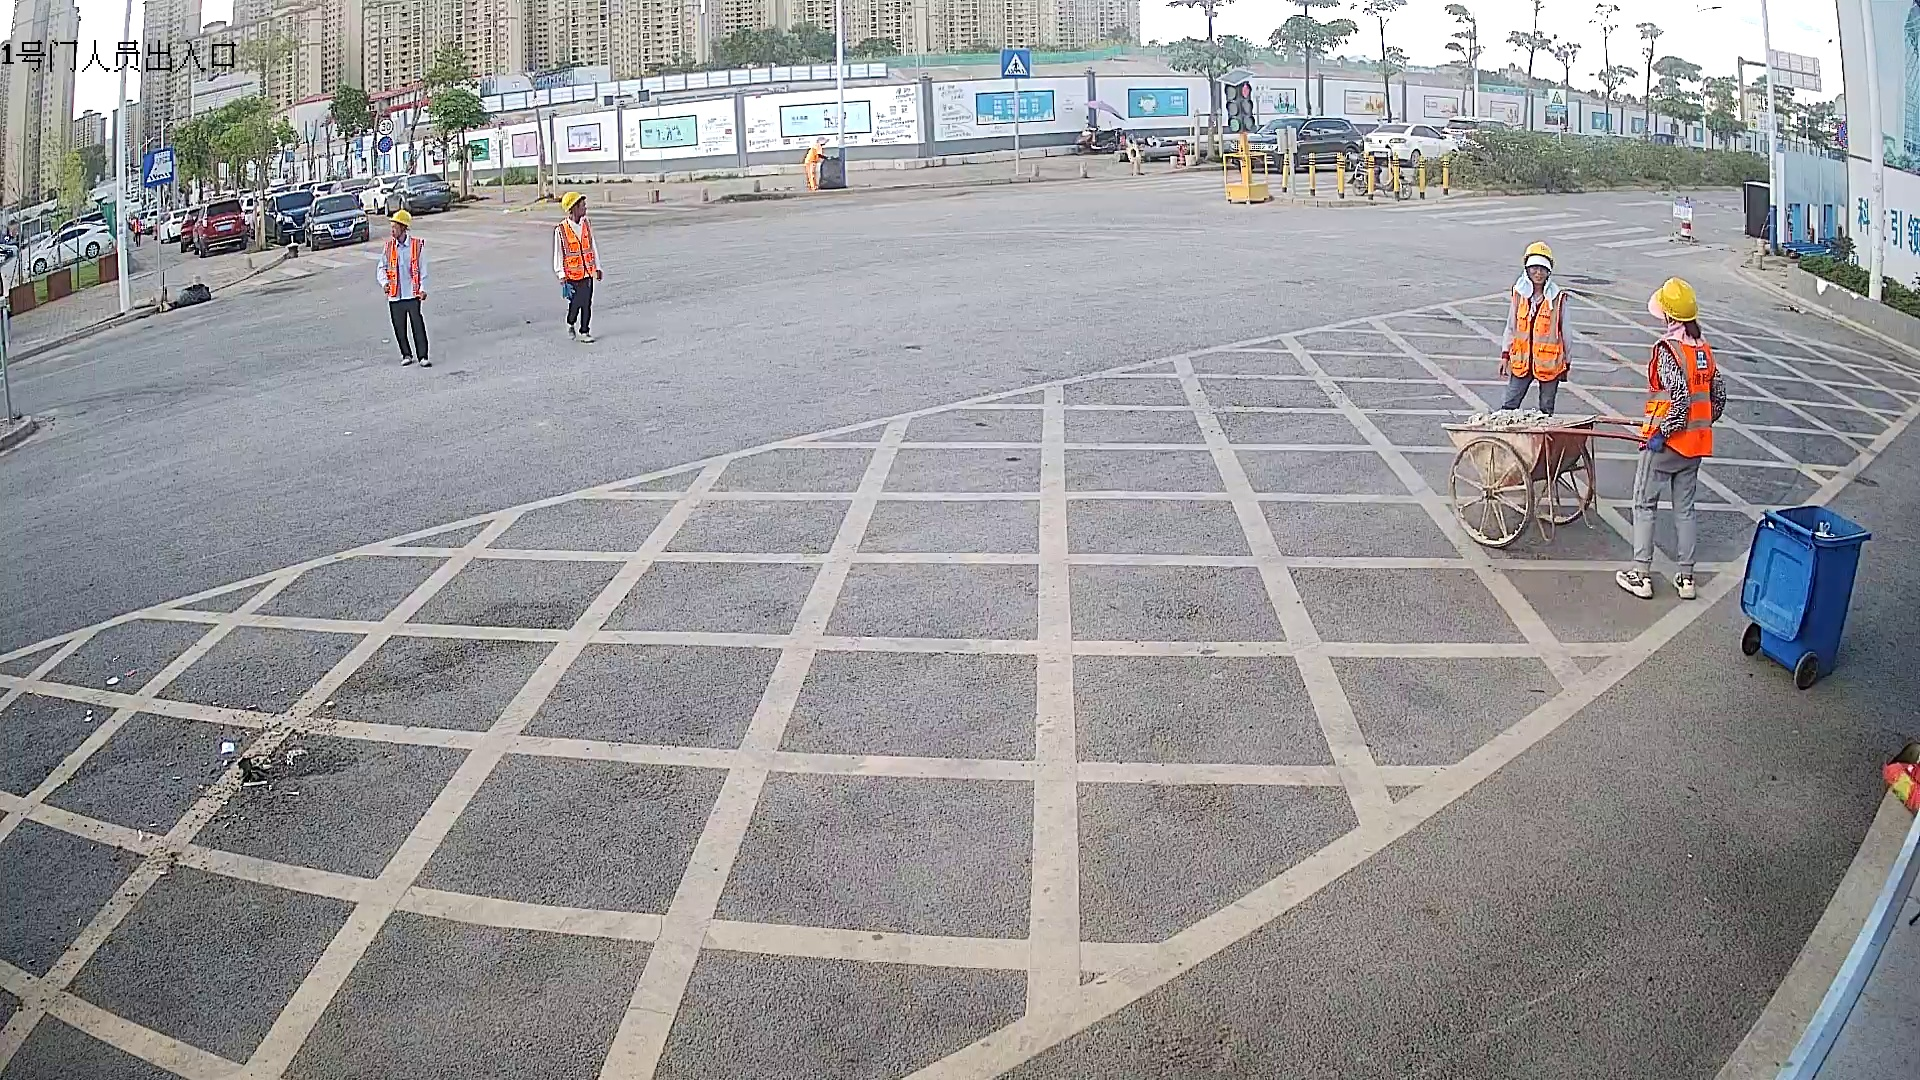person: (1613, 270, 1728, 603), (1497, 232, 1579, 414), (375, 207, 435, 370), (551, 189, 606, 345)
reflective_vest: (1639, 335, 1717, 460), (1505, 283, 1571, 382), (555, 217, 597, 281), (384, 237, 425, 301)
safety_helmet: (1646, 275, 1699, 331), (1521, 234, 1556, 287), (561, 190, 589, 219), (388, 208, 413, 241)
